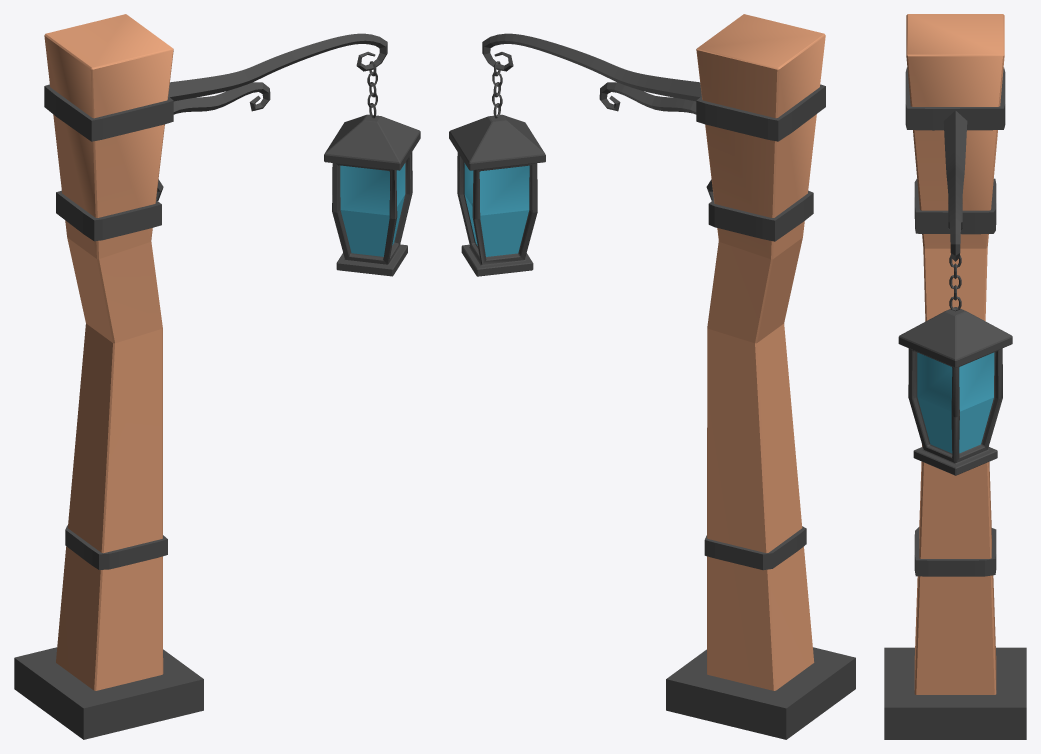
Rendered from StreetLamp_tree.fbx.
3 views of the same model, side by side, from view 1: azimuth 30°, elevation 25°; view 2: azimuth 150°, elevation 25°; view 3: azimuth 270°, elevation 25° (orthographic). The views are drawn at different scales.
Parts seen in each view (by area): view 1: Tree_StreetLamp1; view 2: Tree_StreetLamp1; view 3: Tree_StreetLamp1.
Boxes of the visible parts, x1,y1,x2,y2 form: Tree_StreetLamp1: (14,14,420,739); Tree_StreetLamp1: (449,14,855,739); Tree_StreetLamp1: (884,14,1026,739).
Bounding box in the file's own units: 160 × 271 × 51.85.
